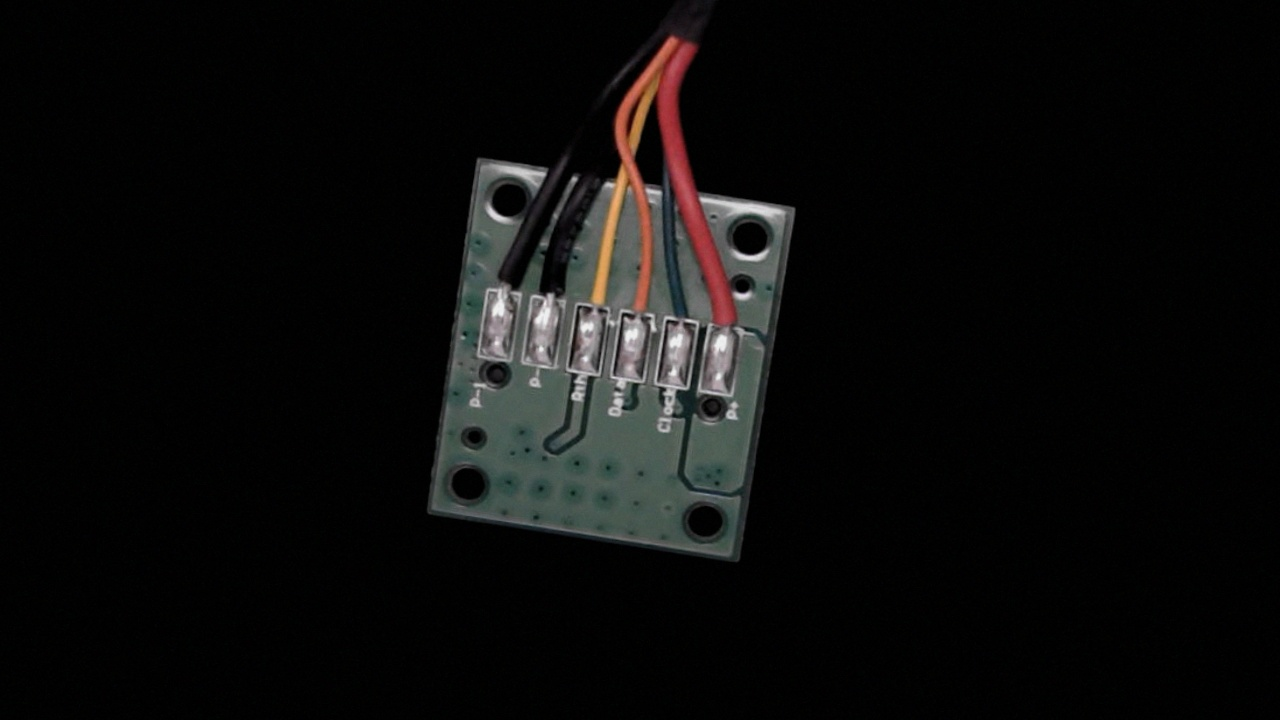Black: (529, 240, 573, 318)
Black1: (481, 231, 531, 311)
Green: (658, 275, 707, 342)
Orange: (616, 256, 663, 333)
Red: (704, 268, 751, 350)
Yellow: (569, 239, 622, 326)
